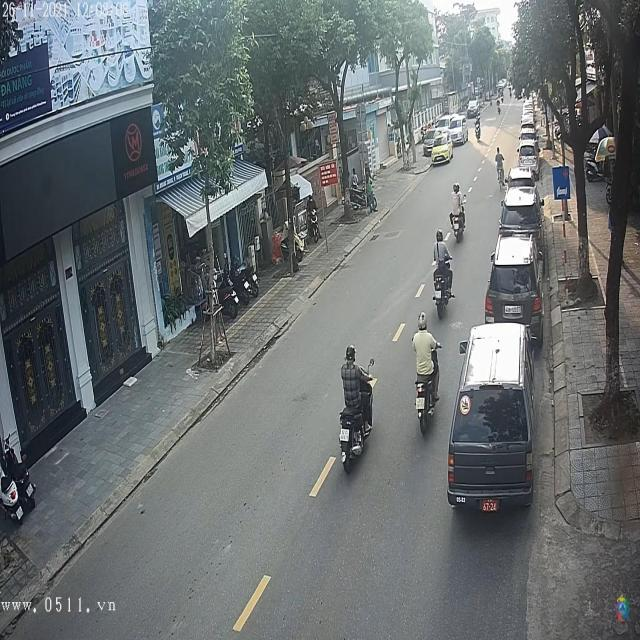car: (447, 326, 533, 514), (485, 236, 543, 330), (500, 187, 543, 236), (507, 167, 534, 190)
motorcycle: (338, 388, 375, 471), (412, 348, 442, 438), (432, 260, 455, 318), (452, 208, 466, 244)
